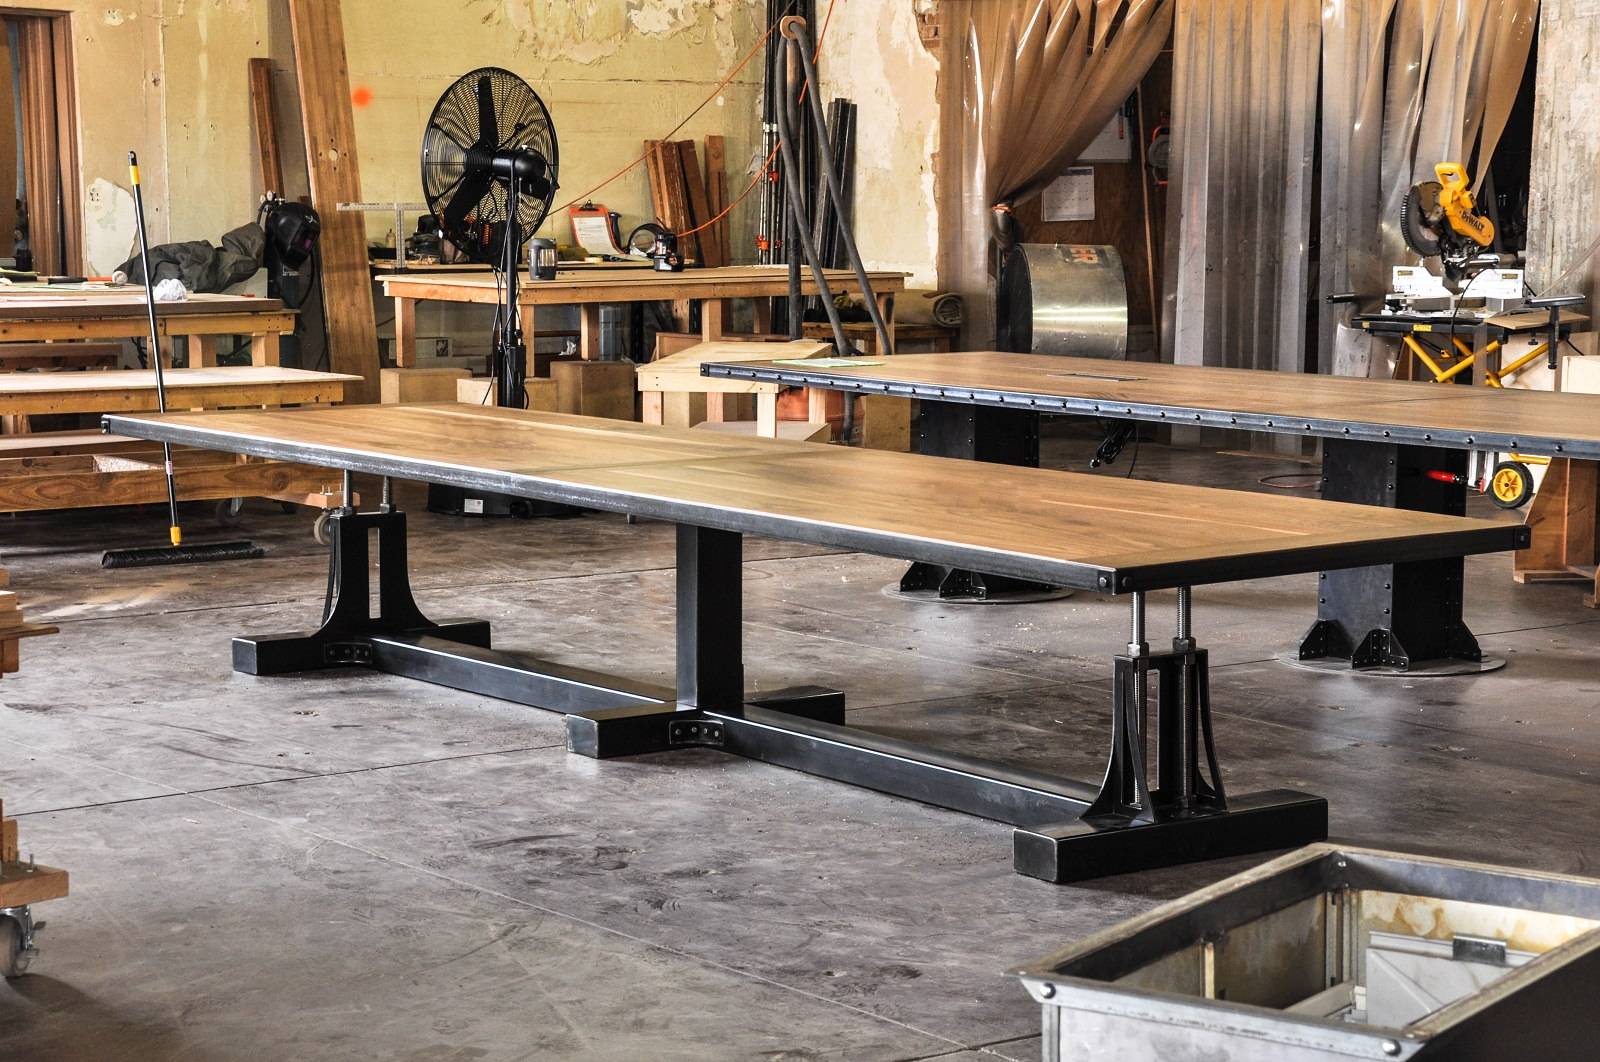conference_table: (99, 397, 1532, 882), (702, 349, 1600, 680), (372, 264, 916, 370), (1, 280, 296, 365), (4, 367, 362, 414), (635, 337, 833, 419)
